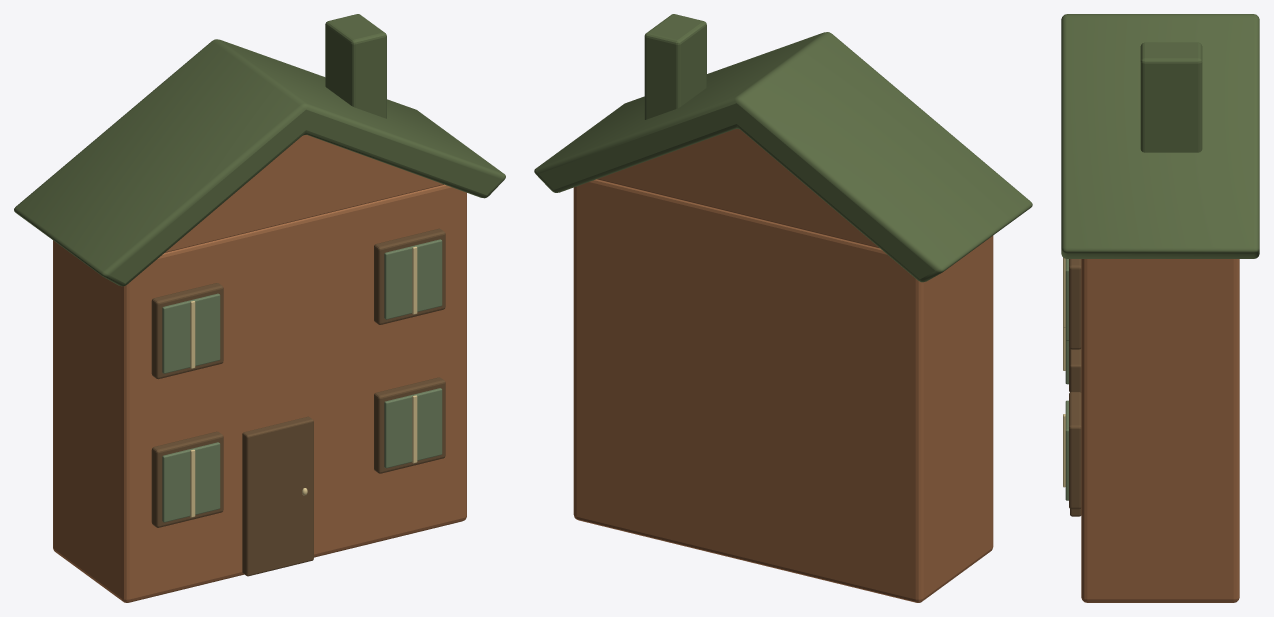
Rendered from residential_two_storey.glb.
The picture shows the model from 3 angles, left to right: view 1: azimuth 30°, elevation 25°; view 2: azimuth 150°, elevation 25°; view 3: azimuth 270°, elevation 25°; orthographic projection. The views are drawn at different scales.
Visible parts, largest first — view 1: PropGeometryGeometry; view 2: PropGeometryGeometry; view 3: PropGeometryGeometry.
Boxes of the visible parts, x1,y1,x2,y2 form: PropGeometryGeometry: (14,14,505,602); PropGeometryGeometry: (534,14,1032,602); PropGeometryGeometry: (1061,14,1259,602).
Size of the model in its own units: 2.27 by 2.59 by 0.9.
